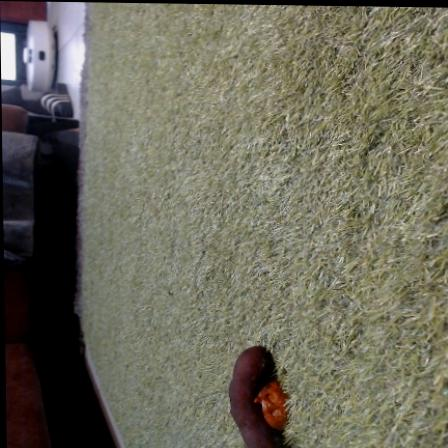dog-poop: (219, 340, 293, 448)
